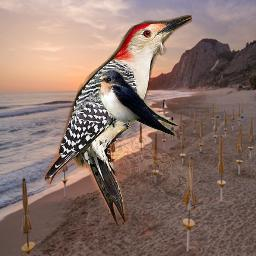Swallow: (94, 68, 178, 139)
Woodpecker: (42, 15, 192, 228)
